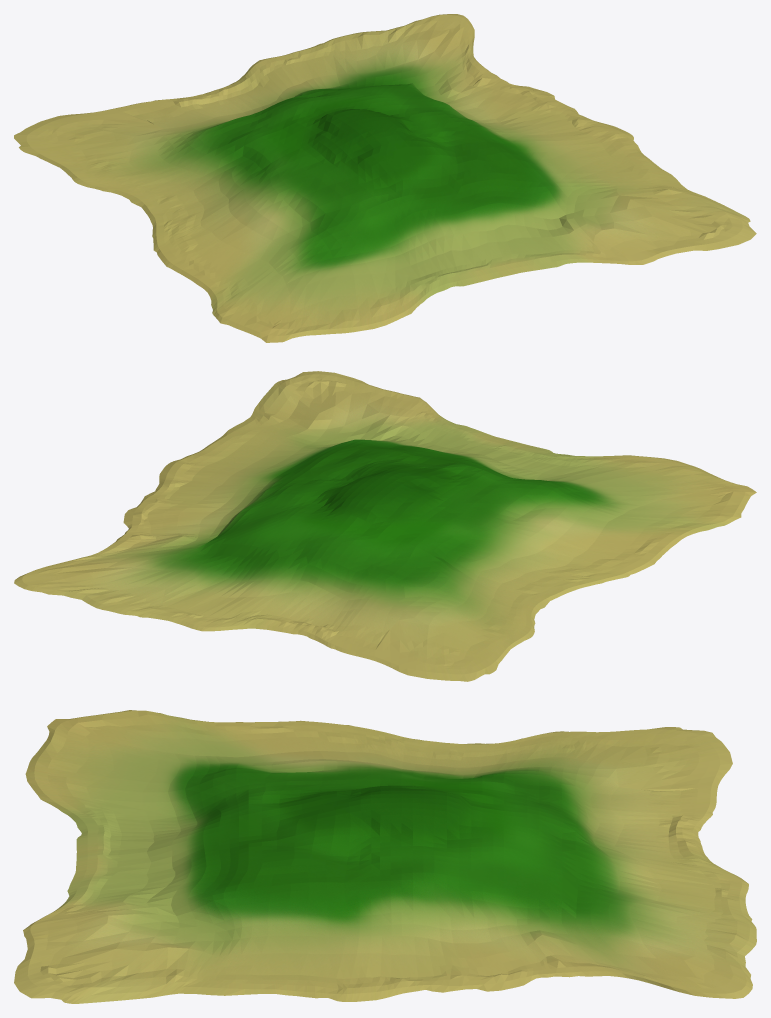
The model's file is Land_Terrain_2.FBX.
The picture shows the model from 3 angles, top to bottom: view 1: azimuth 30°, elevation 25°; view 2: azimuth 150°, elevation 25°; view 3: azimuth 270°, elevation 25°; orthographic projection. The views are drawn at different scales.
Parts seen in each view (by area): view 1: Object016; view 2: Object016; view 3: Object016.
Part boxes in pixels (bbox=[...]): Object016: bbox=[14, 14, 756, 342]; Object016: bbox=[14, 371, 756, 681]; Object016: bbox=[14, 710, 756, 1003].
Size of the model in its own units: 67479 by 6943 by 72284.
Materials: 1 (1 with a texture image).
